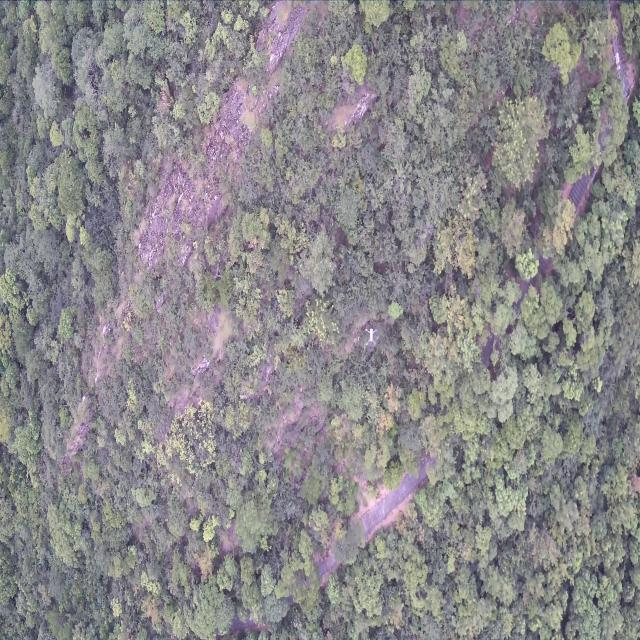UAV: (365, 327, 377, 345)
